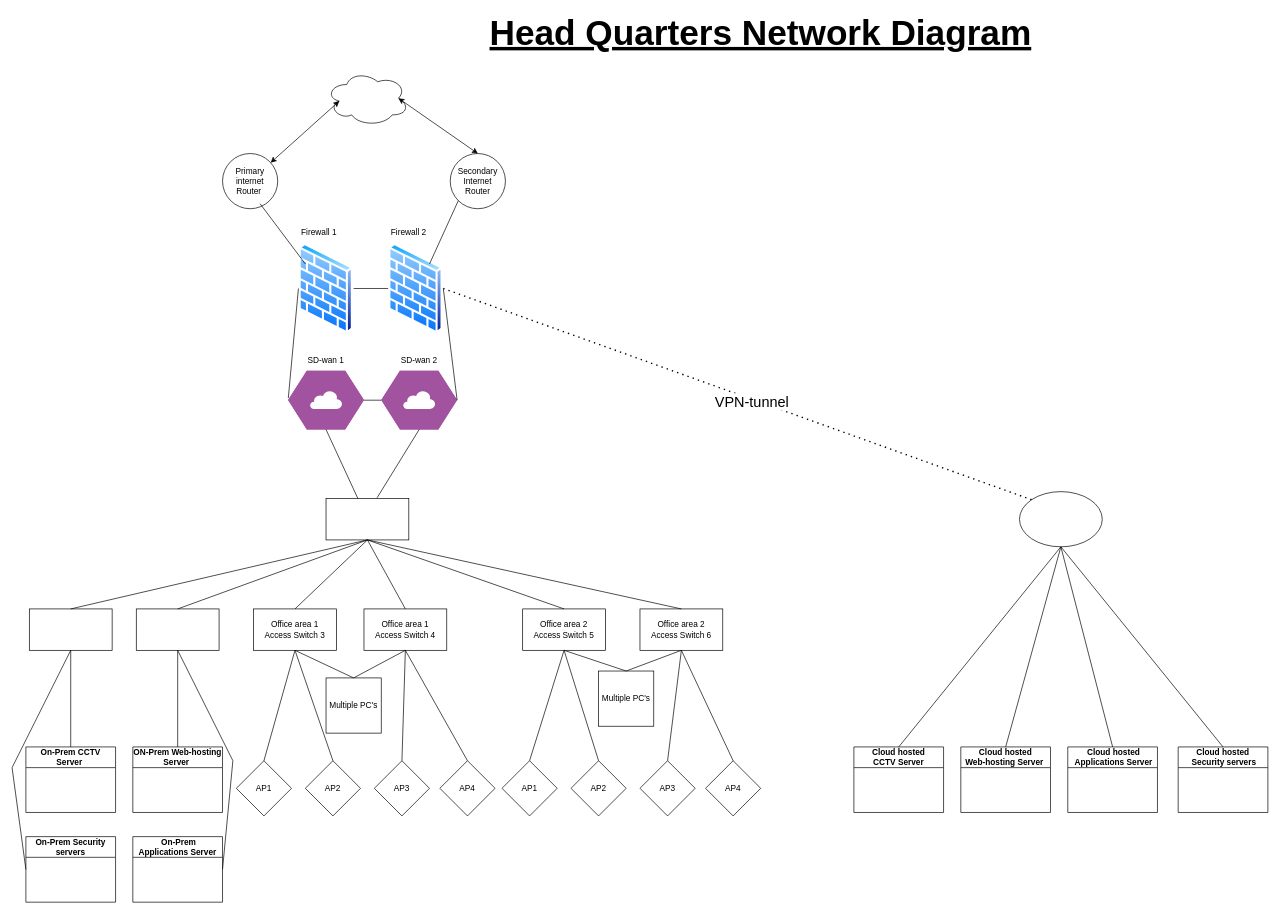
This 1280x914 diagram has some shape labels left out. Here are the shapes that lost their labels. From the top down, the centre of each, then its label:
At point 367,98: "Internet".
At point 367,519: "Core Switch Stack".
At point 1060,519: "AWS cloud".
At point 70,629: "Main comms room Access Switch 1".
At point 177,629: "Main comms room Access Switch 2".
